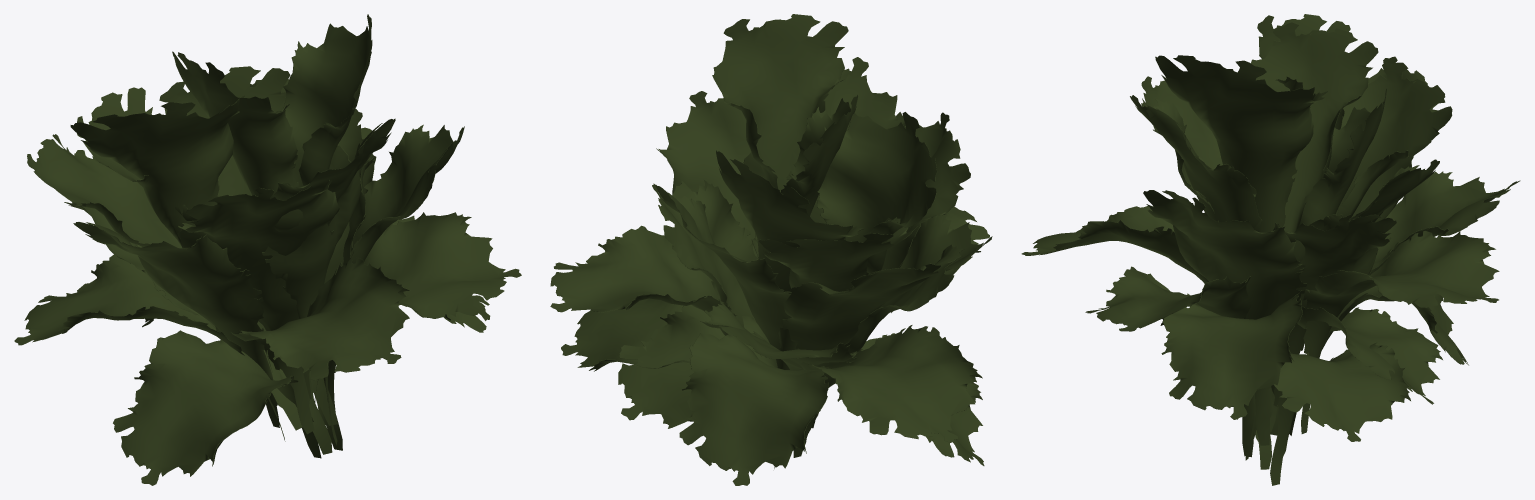
The model's file is lettuce2.glb.
3 views of the same model, side by side, from view 1: azimuth 30°, elevation 25°; view 2: azimuth 150°, elevation 25°; view 3: azimuth 270°, elevation 25° (orthographic).
Parts seen in each view (by area): view 1: Lettuce 13032019 013; view 2: Lettuce 13032019 013; view 3: Lettuce 13032019 013.
Boxes of the visible parts, x1,y1,x2,y2 form: Lettuce 13032019 013: [14, 14, 521, 485]; Lettuce 13032019 013: [550, 14, 992, 485]; Lettuce 13032019 013: [1021, 14, 1520, 485].
Size of the model in its own units: 0.2522 by 0.2553 by 0.2671.
